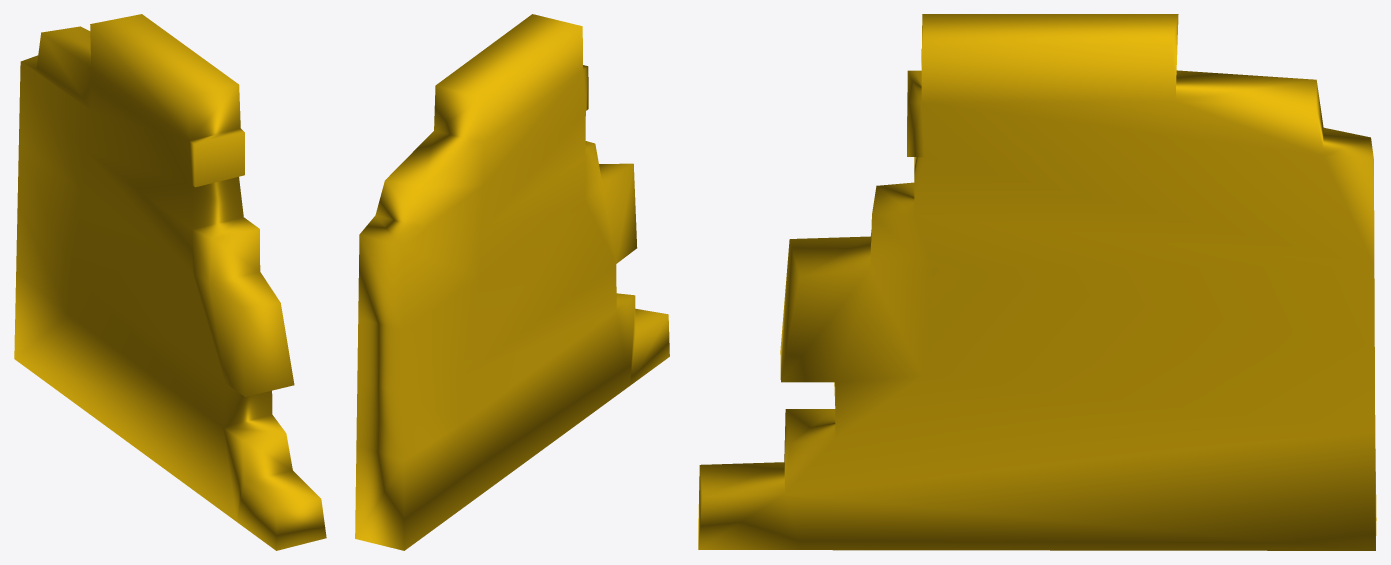
File: Wall_Break_01A_Lod1.fbx
The picture shows the model from 3 angles, left to right: view 1: azimuth 30°, elevation 25°; view 2: azimuth 150°, elevation 25°; view 3: azimuth 270°, elevation 25°; orthographic projection. The views are drawn at different scales.
Parts seen in each view (by area): view 1: Wall_Break_01A_Lod1; view 2: Wall_Break_01A_Lod1; view 3: Wall_Break_01A_Lod1.
Boxes of the visible parts, box(x1,y1,x2,y2) form: Wall_Break_01A_Lod1: box(14, 14, 326, 550); Wall_Break_01A_Lod1: box(355, 14, 669, 550); Wall_Break_01A_Lod1: box(698, 14, 1376, 550).
Bounding box in the file's own units: 176 × 1220 × 1484.
